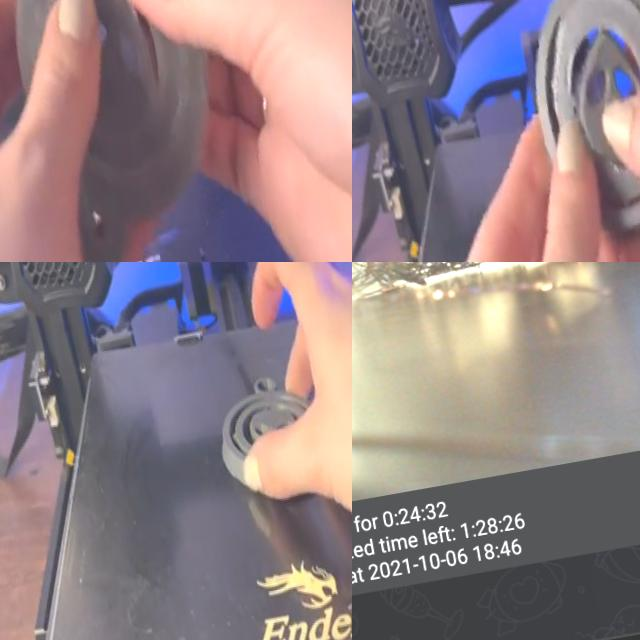spaghetti: (352, 262, 640, 333)
